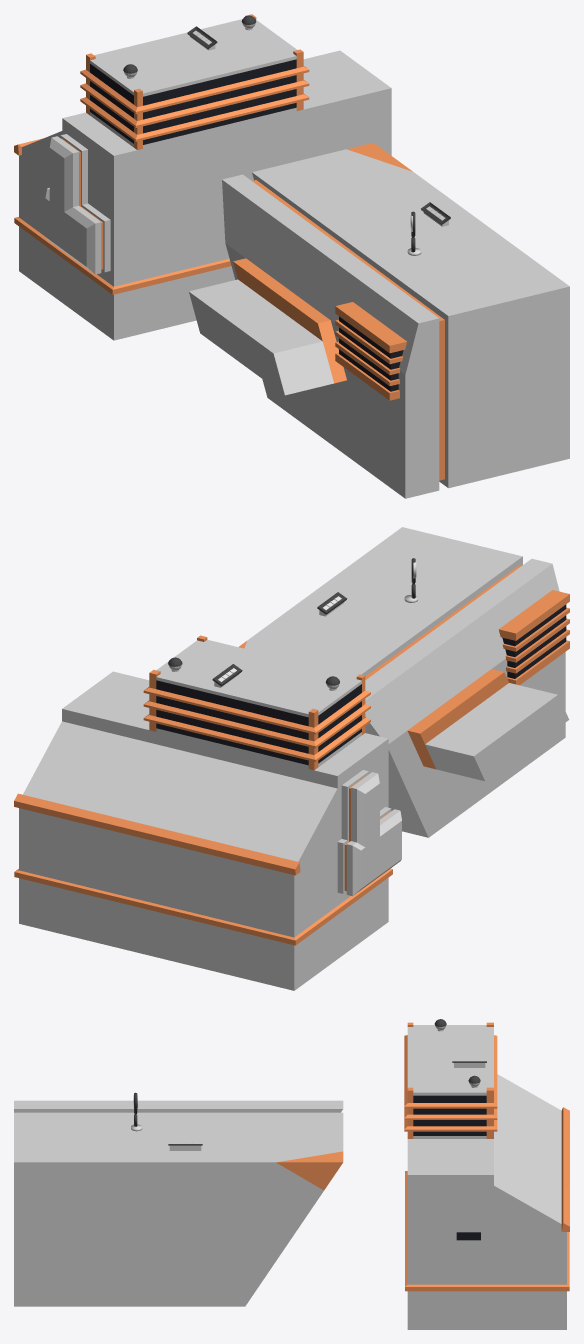
The model's file is HQ_Buildings.fbx.
3 views of the same model, one above another, from view 1: azimuth 30°, elevation 25°; view 2: azimuth 150°, elevation 25°; view 3: azimuth 270°, elevation 25° (orthographic). The views are drawn at different scales.
Visible parts, largest first — view 1: Building, Building.001, Cube; view 2: Building.001, Building, Cube; view 3: Building, Building.001.
Boxes of the visible parts, x1=… form: Building: x1=189, y1=142, x2=569, y2=498; Building.001: x1=14, y1=14, x2=391, y2=340; Cube: x1=335, y1=302, x2=406, y2=400; Building.001: x1=14, y1=635, x2=401, y2=990; Building: x1=238, y1=527, x2=569, y2=837; Cube: x1=498, y1=590, x2=569, y2=685; Building: x1=14, y1=1100, x2=343, y2=1306; Building.001: x1=404, y1=1022, x2=569, y2=1329.
Size of the model in its own units: 5125 by 4105 by 9780.
